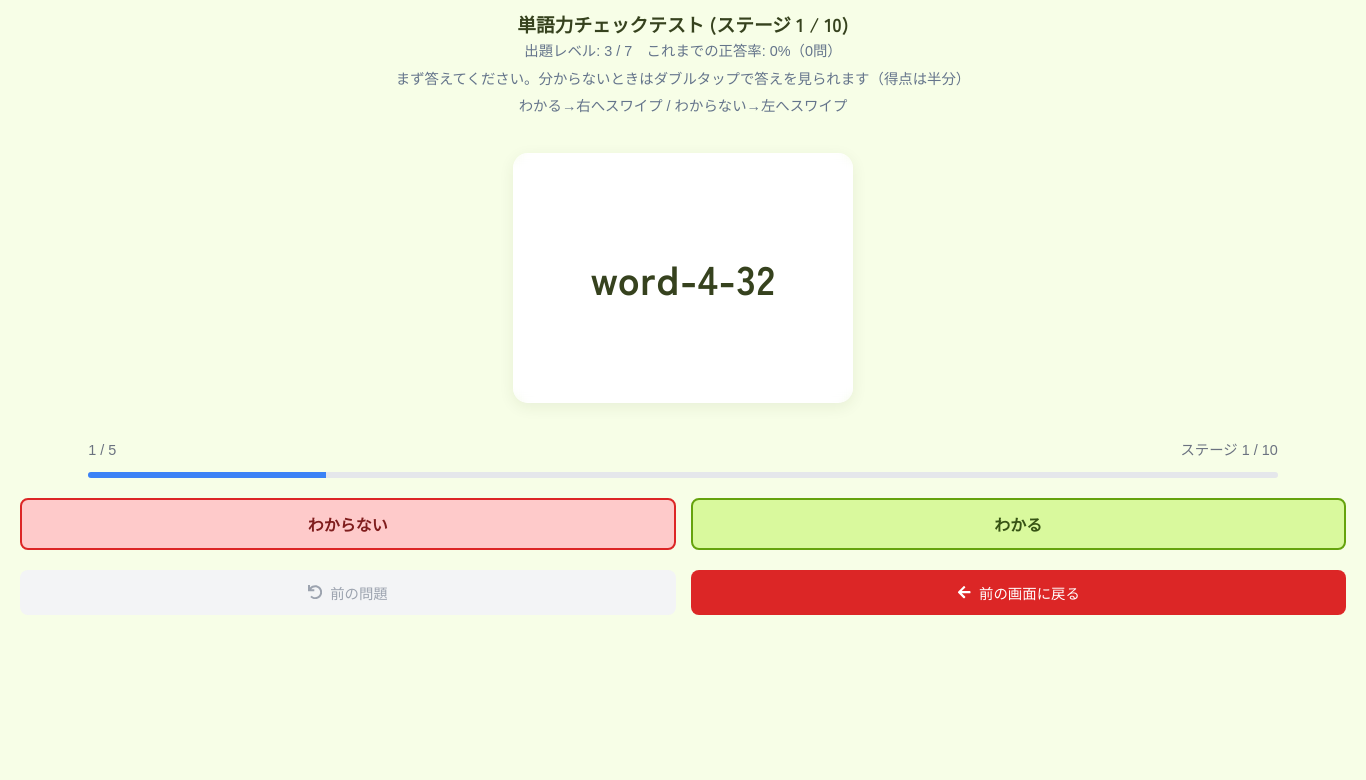
Test case: 前の問題へ戻る › 戻ると回答が1件取り消される
This screenshot has width=1366, height=780.
Click the button "わかる".
click(1018, 524)  # box 690,498 -> 1346,550
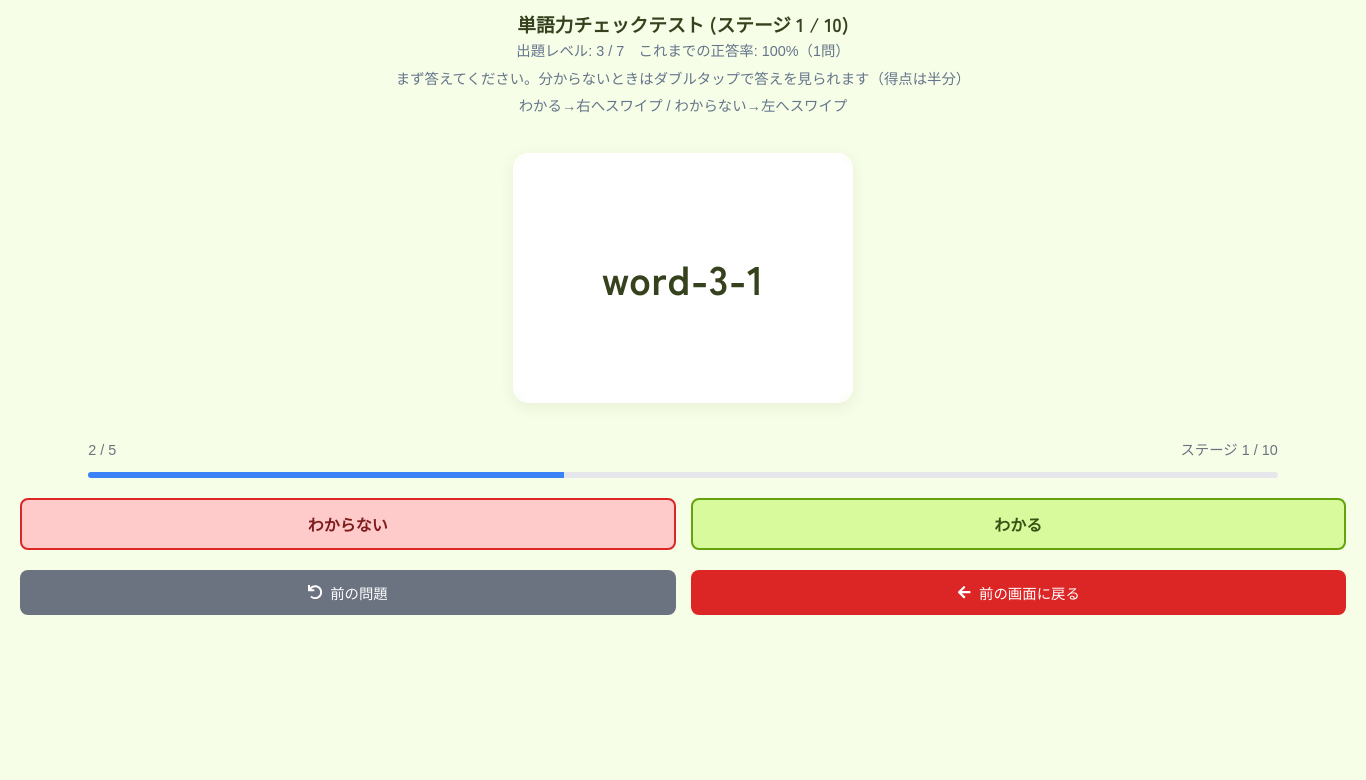
Click the button "わかる".
click(1018, 524)  # box 690,498 -> 1346,550
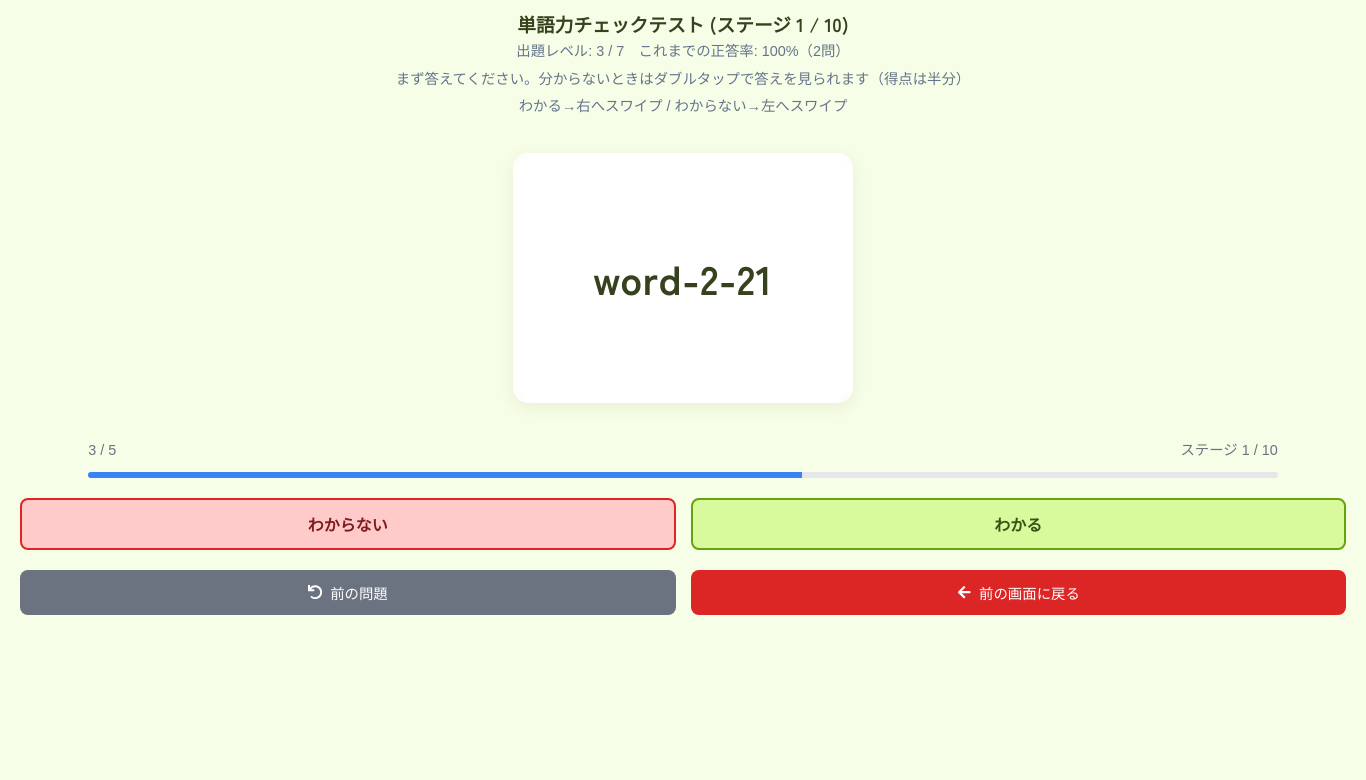
Expected: the text "出題レベル: 3 / 7 これまでの正答率: 100%（2問）" is shown, 516,43 -> 850,59
Click the button "前の問題".
click(348, 592)  # box 20,570 -> 676,615
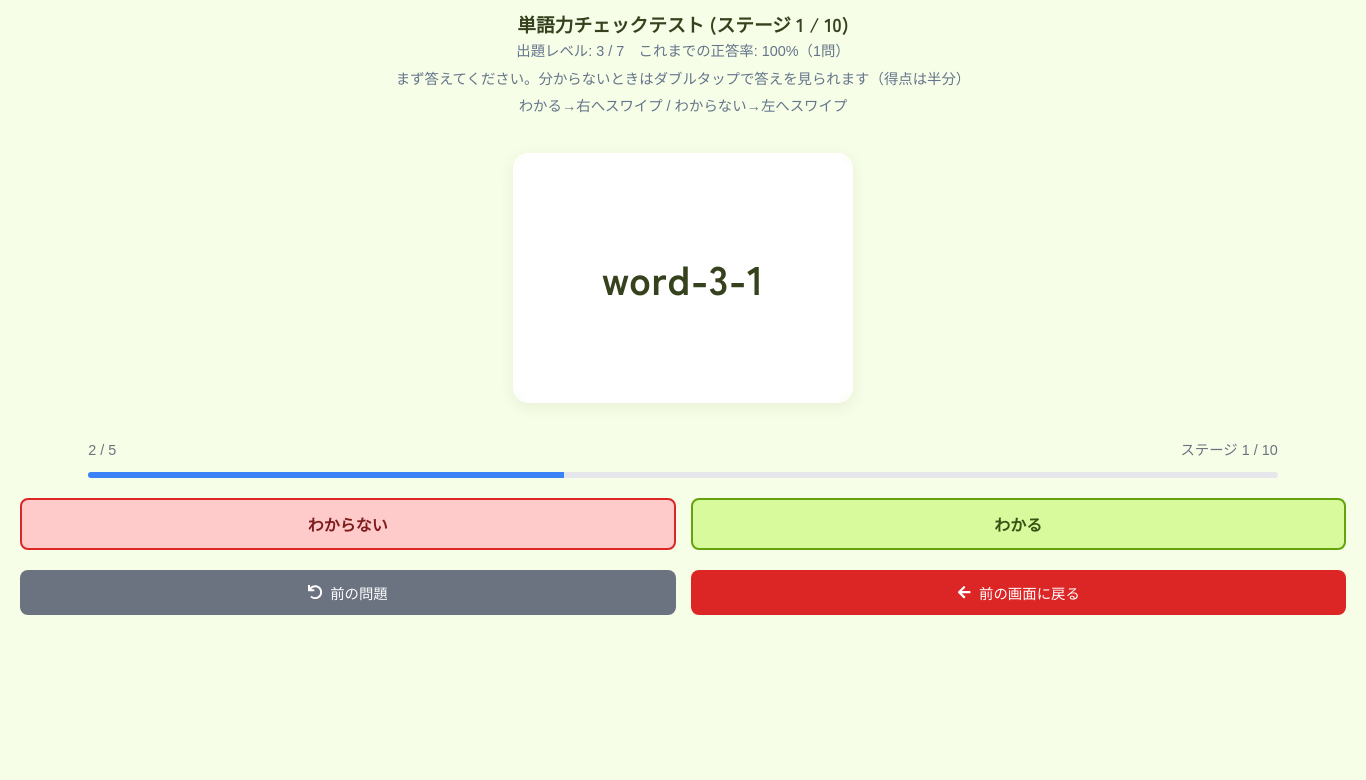
Expected: the text "出題レベル: 3 / 7 これまでの正答率: 100%（1問）" is shown, 516,43 -> 850,59
